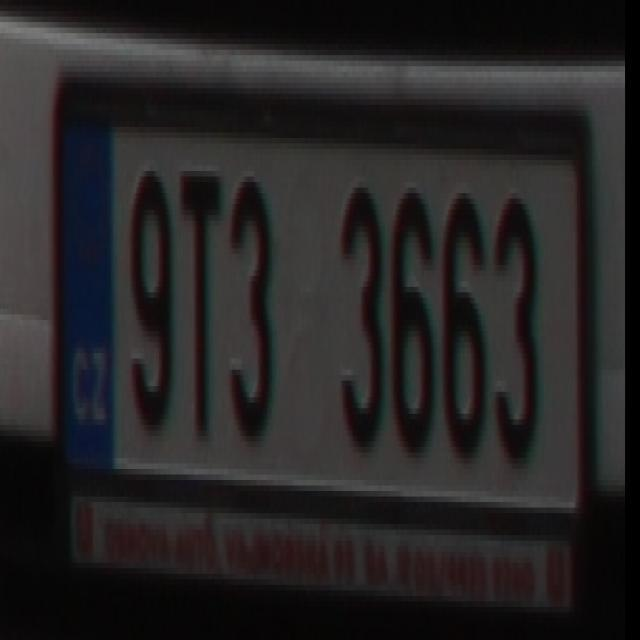3: (338, 171, 383, 447), (227, 170, 274, 430), (494, 182, 539, 452)
6: (388, 182, 438, 452), (442, 187, 486, 463)
9: (128, 166, 176, 420)
T: (179, 160, 224, 442)
